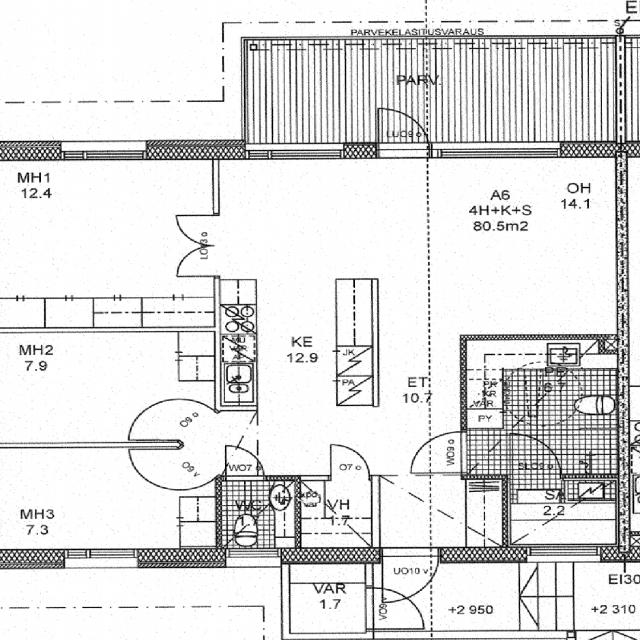door: (381, 548, 438, 610), (376, 98, 428, 158), (365, 586, 425, 628), (512, 433, 562, 479), (409, 432, 466, 472), (225, 444, 264, 482), (331, 445, 369, 481), (177, 215, 221, 246), (177, 246, 221, 276), (180, 413, 221, 440), (182, 448, 221, 475)
